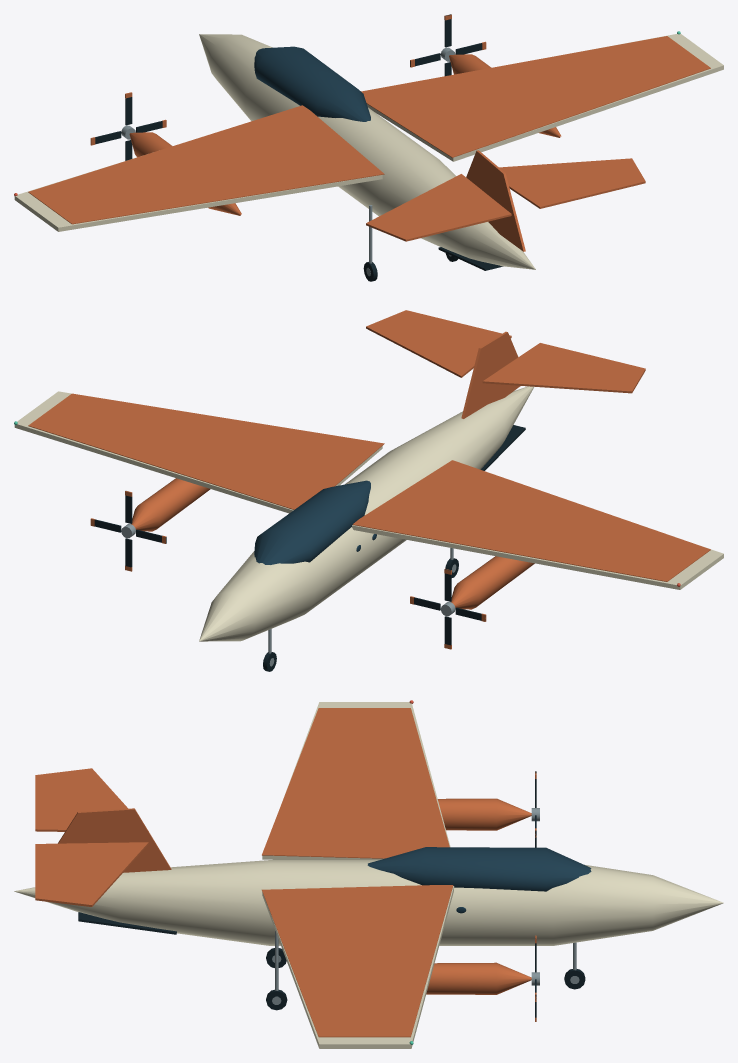
3 renders of one model, top to bottom at view 1: azimuth 30°, elevation 25°; view 2: azimuth 150°, elevation 25°; view 3: azimuth 270°, elevation 25°, orthographic. The views are drawn at different scales.
Visible parts, largest first — view 1: 山海 C-24 original model, propeller-port, propeller-starboard, landing-gear; view 2: 山海 C-24 original model, propeller-port, propeller-starboard; view 3: 山海 C-24 original model, landing-gear.
Boxes of the visible parts, x1,y1,x2,y2 form: 山海 C-24 original model: [14, 31, 723, 270]; propeller-port: [90, 92, 166, 160]; propeller-starboard: [410, 14, 486, 76]; landing-gear: [363, 205, 457, 281]; 山海 C-24 original model: [14, 310, 723, 641]; propeller-port: [410, 568, 486, 649]; propeller-starboard: [90, 491, 166, 571]; 山海 C-24 original model: [14, 700, 723, 1048]; landing-gear: [266, 930, 585, 1010].
Bounding box in the file's own units: 29.23 × 7.12 × 25.6.
